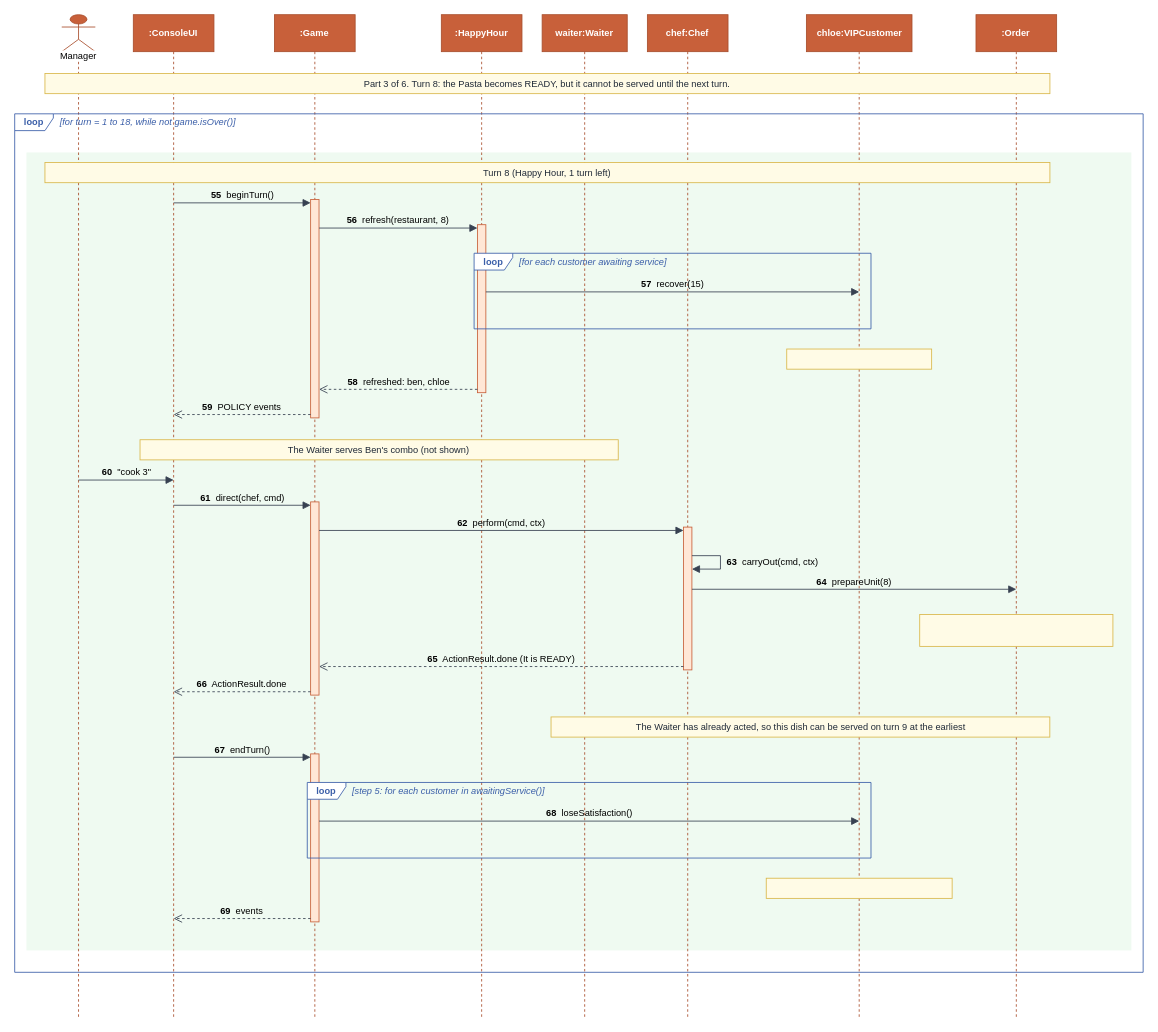
The diagram is 1158 pixels wide and 1032 high, and some of its shapes have lost their labels. The centre of each missing label's shape, as x and y in pixels:
2 of 2 units: status = READY, readyTurn = 8: the point at 1016,630
95 to 100 (Ben: 67 to 82): the point at 859,358
still waiting for food: 100 to 95: the point at 858,887
